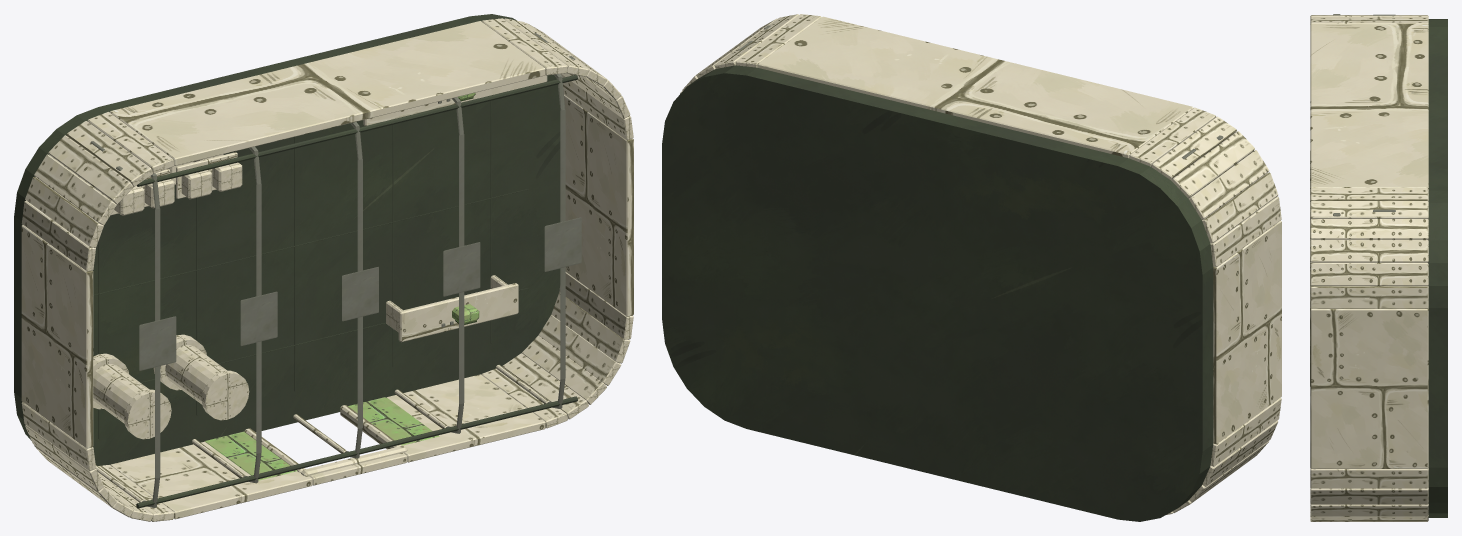
The model's file is ECHO7_07_Ingenieria_Taller.obj.
3 views of the same model, side by side, from view 1: azimuth 30°, elevation 25°; view 2: azimuth 150°, elevation 25°; view 3: azimuth 270°, elevation 25° (orthographic). The views are drawn at different scales.
Visible parts, largest first — view 1: ECHO7_07_Ingenieria_Taller__Suelo_modulo_01, ECHO7_07_Ingenieria_Taller__Pared_presion_07, ECHO7_07_Ingenieria_Taller__Pared_presion_14, ECHO7_07_Ingenieria_Taller__Pared_presion_27, ECHO7_07_Ingenieria_Taller__Pared_frente_01, ECHO7_07_Ingenieria_Taller__Pared_frente_02, ECHO7_07_Ingenieria_Taller__Mesa_tablero_02, ECHO7_07_Ingenieria_Taller__Conducto_superior_01, ECHO7_07_Ingenieria_Taller__Conducto_superior_02, ECHO7_07_Ingenieria_Taller__Pared_presion_11, ECHO7_07_Ingenieria_Taller__Pared_presion_10, ECHO7_07_Ingenieria_Taller__Pared_presion_12 (+38 smaller); view 2: ECHO7_07_Ingenieria_Taller__Suelo_modulo_01, ECHO7_07_Ingenieria_Taller__Pared_presion_07, ECHO7_07_Ingenieria_Taller__Pared_presion_14, ECHO7_07_Ingenieria_Taller__Pared_presion_11, ECHO7_07_Ingenieria_Taller__Pared_presion_10, ECHO7_07_Ingenieria_Taller__Pared_presion_12, ECHO7_07_Ingenieria_Taller__Pared_presion_09, ECHO7_07_Ingenieria_Taller__Pared_presion_13, ECHO7_07_Ingenieria_Taller__Pared_presion_08, ECHO7_07_Ingenieria_Taller__Pared_presion_15, ECHO7_07_Ingenieria_Taller__Pared_presion_06, ECHO7_07_Ingenieria_Taller__Pared_presion_16 (+1 smaller); view 3: ECHO7_07_Ingenieria_Taller__Pared_presion_07, ECHO7_07_Ingenieria_Taller__Pared_presion_27, ECHO7_07_Ingenieria_Taller__Suelo_modulo_01, ECHO7_07_Ingenieria_Taller__Pared_presion_03, ECHO7_07_Ingenieria_Taller__Pared_presion_02, ECHO7_07_Ingenieria_Taller__Pared_presion_01, ECHO7_07_Ingenieria_Taller__Pared_presion_04, ECHO7_07_Ingenieria_Taller__Pared_presion_26, ECHO7_07_Ingenieria_Taller__Pared_presion_05, ECHO7_07_Ingenieria_Taller__Pared_presion_25, ECHO7_07_Ingenieria_Taller__Pared_presion_06, ECHO7_07_Ingenieria_Taller__Pared_presion_24 (+3 smaller).
Part boxes in pixels (x1,y1,x2,y2): ECHO7_07_Ingenieria_Taller__Suelo_modulo_01: [14, 14, 560, 465]; ECHO7_07_Ingenieria_Taller__Pared_presion_07: [109, 21, 545, 165]; ECHO7_07_Ingenieria_Taller__Pared_presion_14: [21, 225, 93, 448]; ECHO7_07_Ingenieria_Taller__Pared_presion_27: [564, 94, 633, 316]; ECHO7_07_Ingenieria_Taller__Pared_frente_01: [110, 441, 312, 519]; ECHO7_07_Ingenieria_Taller__Pared_frente_02: [387, 374, 545, 462]; ECHO7_07_Ingenieria_Taller__Mesa_tablero_02: [398, 283, 518, 342]; ECHO7_07_Ingenieria_Taller__Conducto_superior_01: [136, 396, 577, 508]; ECHO7_07_Ingenieria_Taller__Conducto_superior_02: [137, 75, 577, 186]; ECHO7_07_Ingenieria_Taller__Pared_presion_11: [34, 154, 116, 225]; ECHO7_07_Ingenieria_Taller__Pared_presion_10: [48, 135, 133, 204]; ECHO7_07_Ingenieria_Taller__Pared_presion_12: [25, 176, 103, 247]; ECHO7_07_Ingenieria_Taller__Suelo_modulo_01: [662, 65, 1213, 521]; ECHO7_07_Ingenieria_Taller__Pared_presion_07: [757, 16, 1193, 158]; ECHO7_07_Ingenieria_Taller__Pared_presion_14: [1213, 220, 1281, 444]; ECHO7_07_Ingenieria_Taller__Pared_presion_11: [1189, 150, 1269, 219]; ECHO7_07_Ingenieria_Taller__Pared_presion_10: [1171, 131, 1254, 198]; ECHO7_07_Ingenieria_Taller__Pared_presion_12: [1202, 172, 1278, 243]; ECHO7_07_Ingenieria_Taller__Pared_presion_09: [1151, 116, 1236, 180]; ECHO7_07_Ingenieria_Taller__Pared_presion_13: [1210, 196, 1281, 267]; ECHO7_07_Ingenieria_Taller__Pared_presion_08: [1129, 107, 1215, 166]; ECHO7_07_Ingenieria_Taller__Pared_presion_15: [1210, 397, 1281, 466]; ECHO7_07_Ingenieria_Taller__Pared_presion_06: [735, 14, 821, 67]; ECHO7_07_Ingenieria_Taller__Pared_presion_16: [1202, 420, 1278, 486]; ECHO7_07_Ingenieria_Taller__Pared_presion_07: [1310, 23, 1428, 188]; ECHO7_07_Ingenieria_Taller__Pared_presion_27: [1310, 308, 1428, 468]; ECHO7_07_Ingenieria_Taller__Suelo_modulo_01: [1428, 19, 1447, 517]; ECHO7_07_Ingenieria_Taller__Pared_presion_03: [1310, 239, 1428, 262]; ECHO7_07_Ingenieria_Taller__Pared_presion_02: [1310, 263, 1428, 285]; ECHO7_07_Ingenieria_Taller__Pared_presion_01: [1310, 286, 1428, 308]; ECHO7_07_Ingenieria_Taller__Pared_presion_04: [1310, 218, 1428, 240]; ECHO7_07_Ingenieria_Taller__Pared_presion_26: [1310, 468, 1428, 488]; ECHO7_07_Ingenieria_Taller__Pared_presion_05: [1310, 201, 1428, 219]; ECHO7_07_Ingenieria_Taller__Pared_presion_25: [1310, 488, 1428, 504]; ECHO7_07_Ingenieria_Taller__Pared_presion_06: [1310, 188, 1428, 201]; ECHO7_07_Ingenieria_Taller__Pared_presion_24: [1310, 504, 1428, 516].
Size of the model in its own units: 16.22 by 10.35 by 3.91.
Materials: 6 (6 with a texture image).
